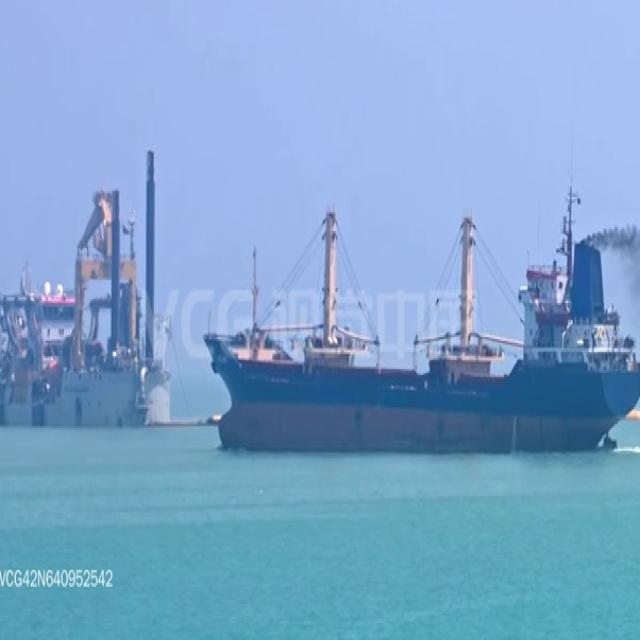cargoship: (203, 189, 640, 451), (0, 140, 170, 424)
